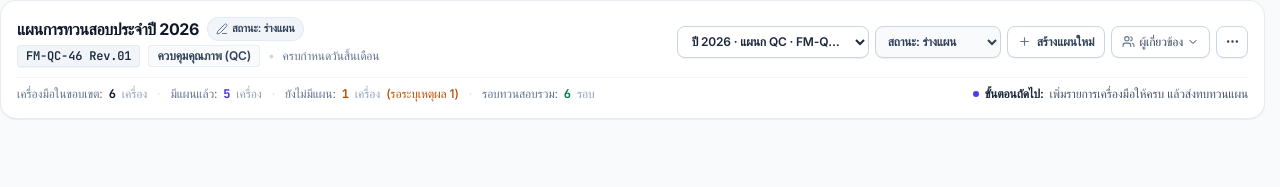
Test: Annual Planning Header Redesign (FM-QC-46) — Compact 2-Tier Enterprise UI › 4. Collapsible Approval Chain: Toggles 3-tier approval hierarchy cleanly via ผู้เกี่ยวข้อง
# Click ผู้เกี่ยวข้อง to toggle drawer open
Click the button "ผู้เกี่ยวข้อง". click: (1161, 42)
box: [1111, 26, 1210, 58]
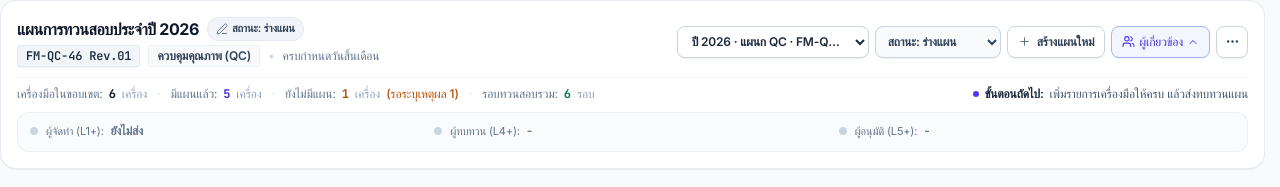
Now the element with test id "annual-plan-approval-chain" is shown, box [17, 112, 1248, 152]
Now the text "ผู้จัดทำ (L1+):" is shown, box [46, 124, 107, 138]
Now the text "ผู้ทบทวน (L4+):" is shown, box [450, 124, 523, 138]
# Click again to collapse
Click the button "ผู้เกี่ยวข้อง". click: (1161, 42)
box: [1111, 26, 1210, 58]
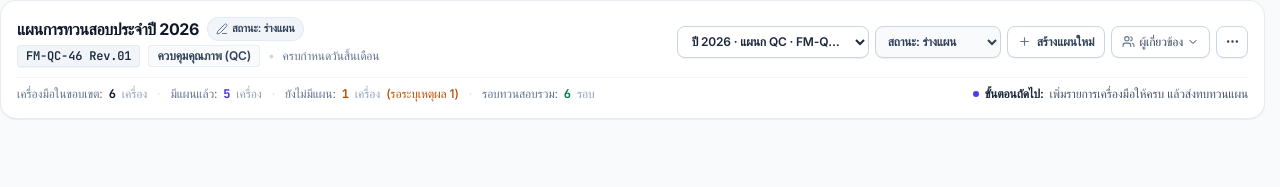
Now the element with test id "annual-plan-approval-chain" is gone
